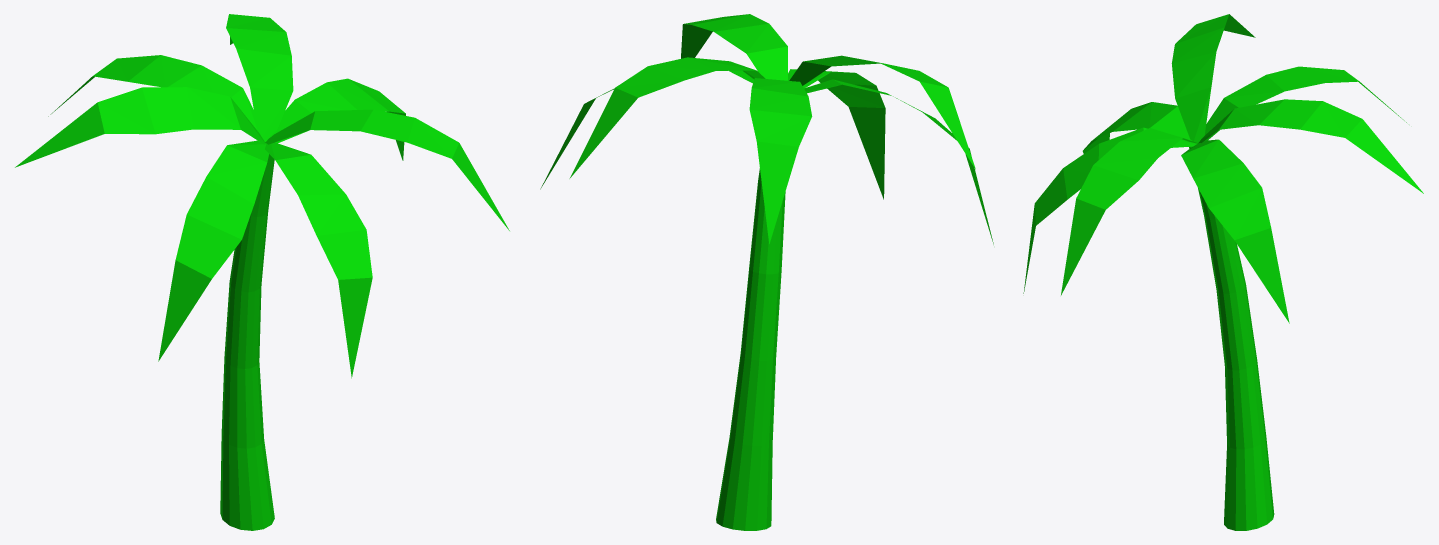
File: trees.fbx
3 views of the same model, side by side, from view 1: azimuth 30°, elevation 25°; view 2: azimuth 150°, elevation 25°; view 3: azimuth 270°, elevation 25° (orthographic). The views are drawn at different scales.
Parts seen in each view (by area): view 1: Palm_2_5; view 2: Palm_2_5; view 3: Palm_2_5.
Part boxes in pixels (box(x1,y1,x2,y2)): Palm_2_5: box(15, 14, 509, 530); Palm_2_5: box(540, 14, 993, 530); Palm_2_5: box(1023, 14, 1423, 530).
Size of the model in its own units: 1609 by 1780 by 1466.
